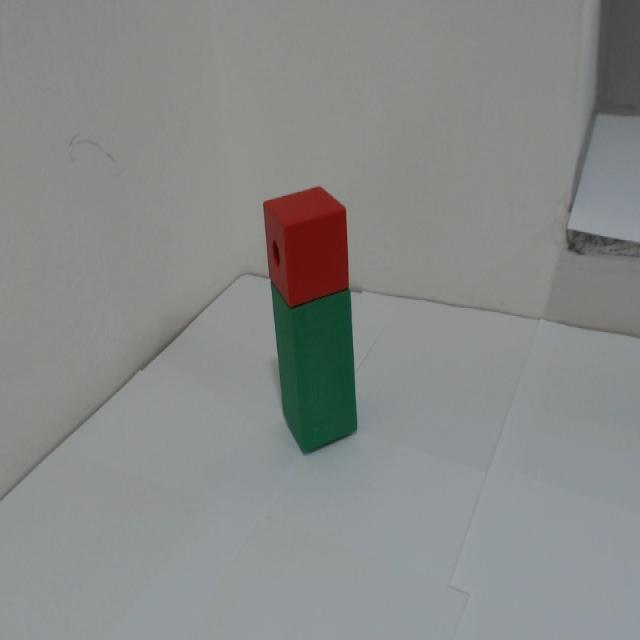cube: (248, 187, 372, 307)
